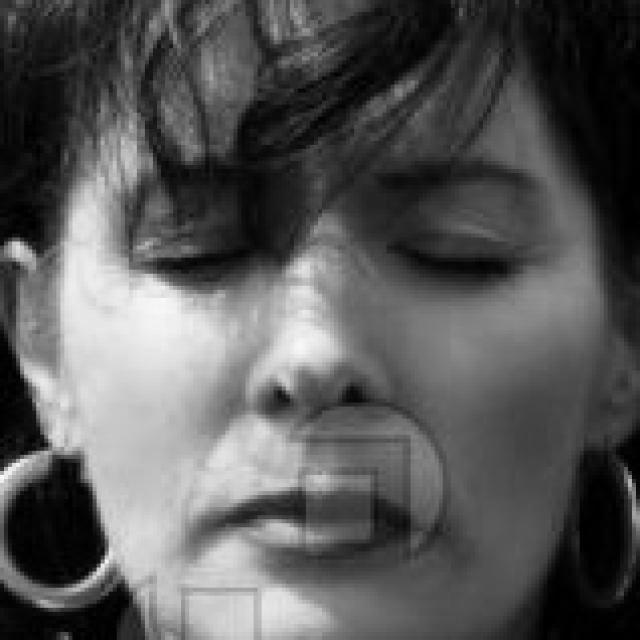real: (64, 18, 580, 634), (105, 156, 553, 310)
